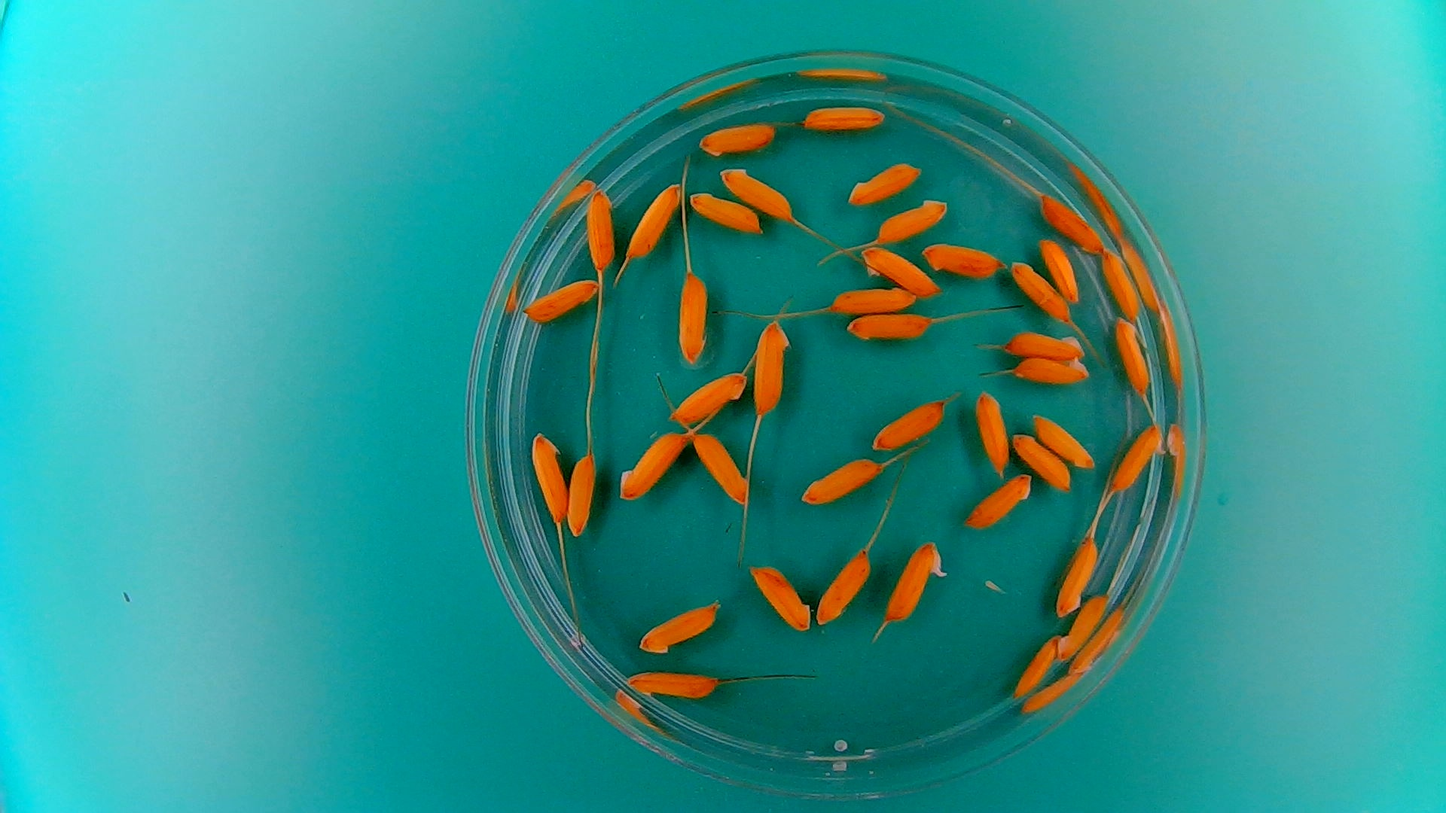no: (615, 427, 689, 503), (634, 596, 725, 656), (749, 562, 817, 642), (813, 544, 874, 628), (623, 178, 683, 261), (666, 368, 746, 428), (691, 429, 752, 507), (868, 394, 950, 452), (798, 455, 883, 508), (1036, 190, 1105, 254), (720, 163, 794, 222), (961, 471, 1033, 531), (859, 244, 940, 296), (1009, 257, 1072, 323), (1055, 589, 1111, 663), (1051, 532, 1099, 618), (749, 318, 790, 416), (528, 431, 569, 527), (522, 274, 599, 324), (1009, 431, 1072, 492), (1031, 412, 1097, 470), (844, 160, 924, 206), (875, 195, 950, 244), (1011, 630, 1061, 702), (687, 188, 762, 234), (626, 666, 721, 702), (973, 386, 1011, 476), (920, 239, 1005, 279), (675, 270, 710, 365), (697, 116, 778, 157), (1112, 315, 1152, 397), (1098, 248, 1142, 322), (1036, 234, 1081, 305), (798, 99, 888, 134), (582, 186, 617, 273), (846, 310, 932, 345), (1003, 327, 1087, 360), (565, 449, 596, 538), (828, 285, 917, 315), (1011, 355, 1091, 386)
yes: (883, 536, 950, 626), (1109, 419, 1167, 493)
